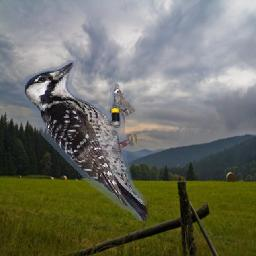Woodpecker: (23, 61, 150, 222)
